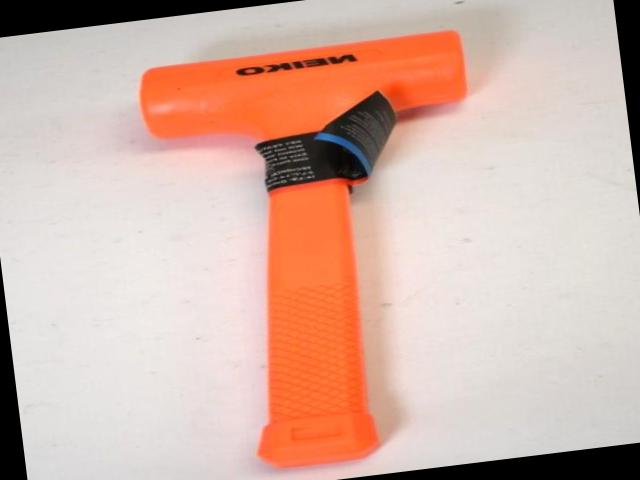hammer: (137, 28, 512, 480)
